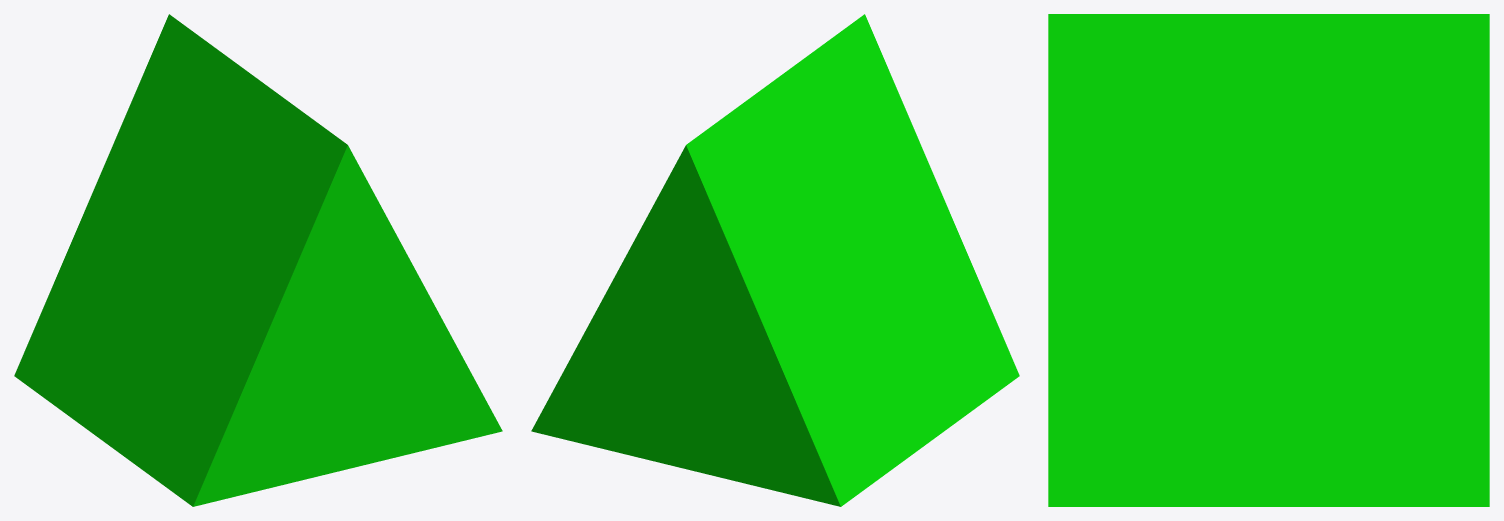
Rendered from prism.glb.
3 renders of one model, left to right at view 1: azimuth 30°, elevation 25°; view 2: azimuth 150°, elevation 25°; view 3: azimuth 270°, elevation 25°, orthographic. The views are drawn at different scales.
Visible parts, largest first — view 1: Prism; view 2: Prism; view 3: Prism.
Boxes of the visible parts, <box> form: Prism: <box>14,14,502,506</box>; Prism: <box>531,14,1019,506</box>; Prism: <box>1048,14,1489,506</box>.
Size of the model in its own units: 0.2 by 0.2 by 0.2.
